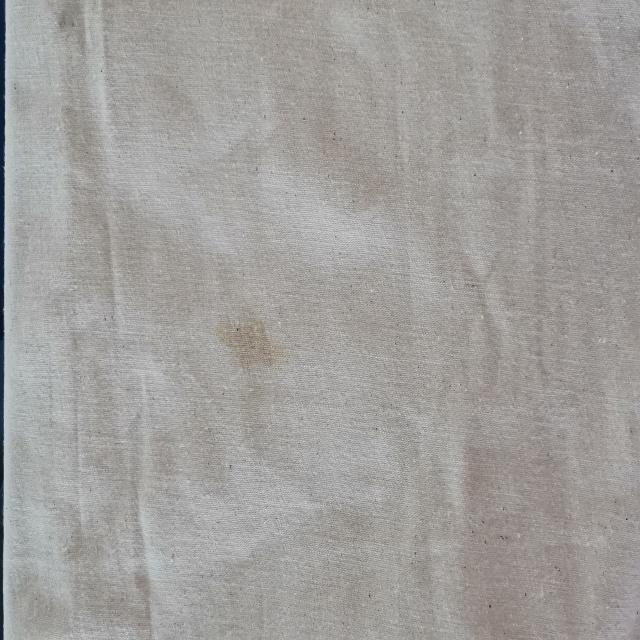taaaches: (218, 291, 286, 393)
